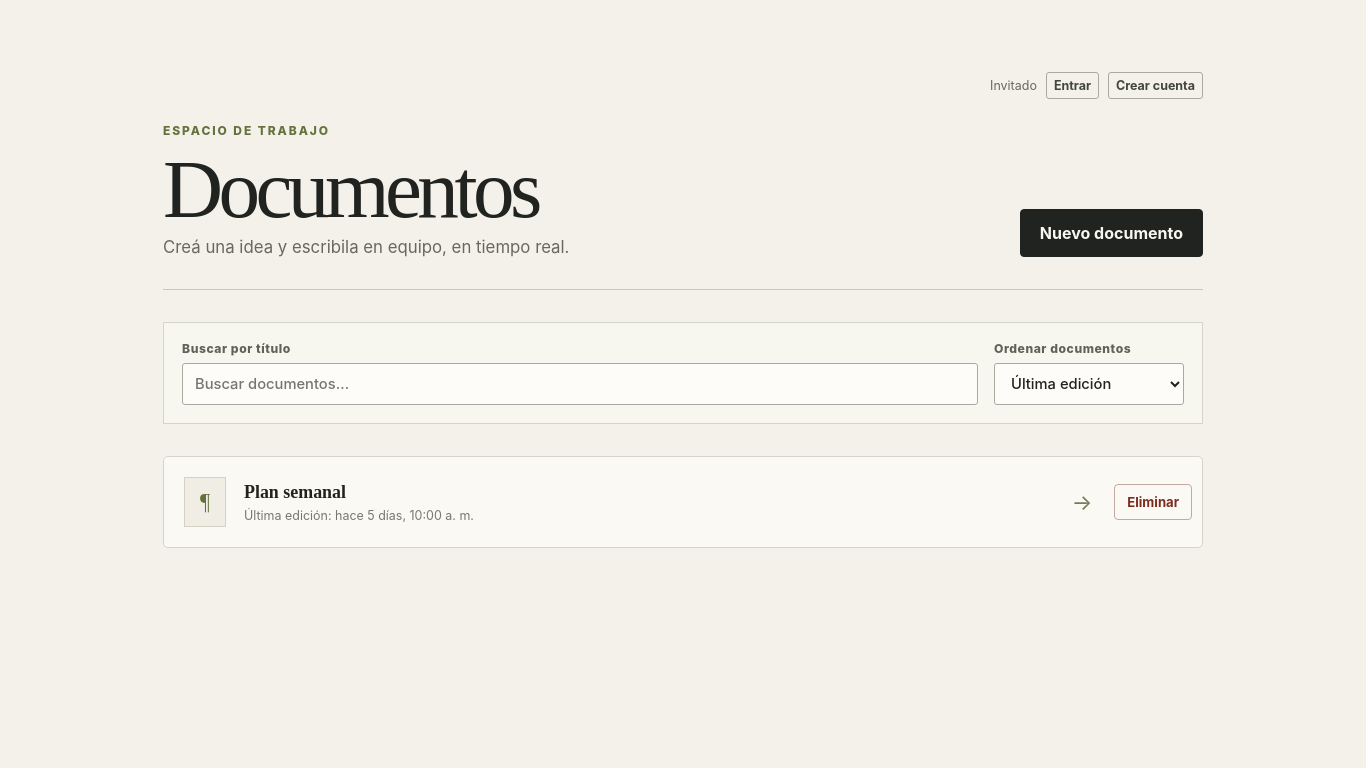
DocumentList › keeps the document and reports a deletion error
Click the button with aria-label "eliminar plan semanal": (1153, 502) [1114, 484, 1192, 520]
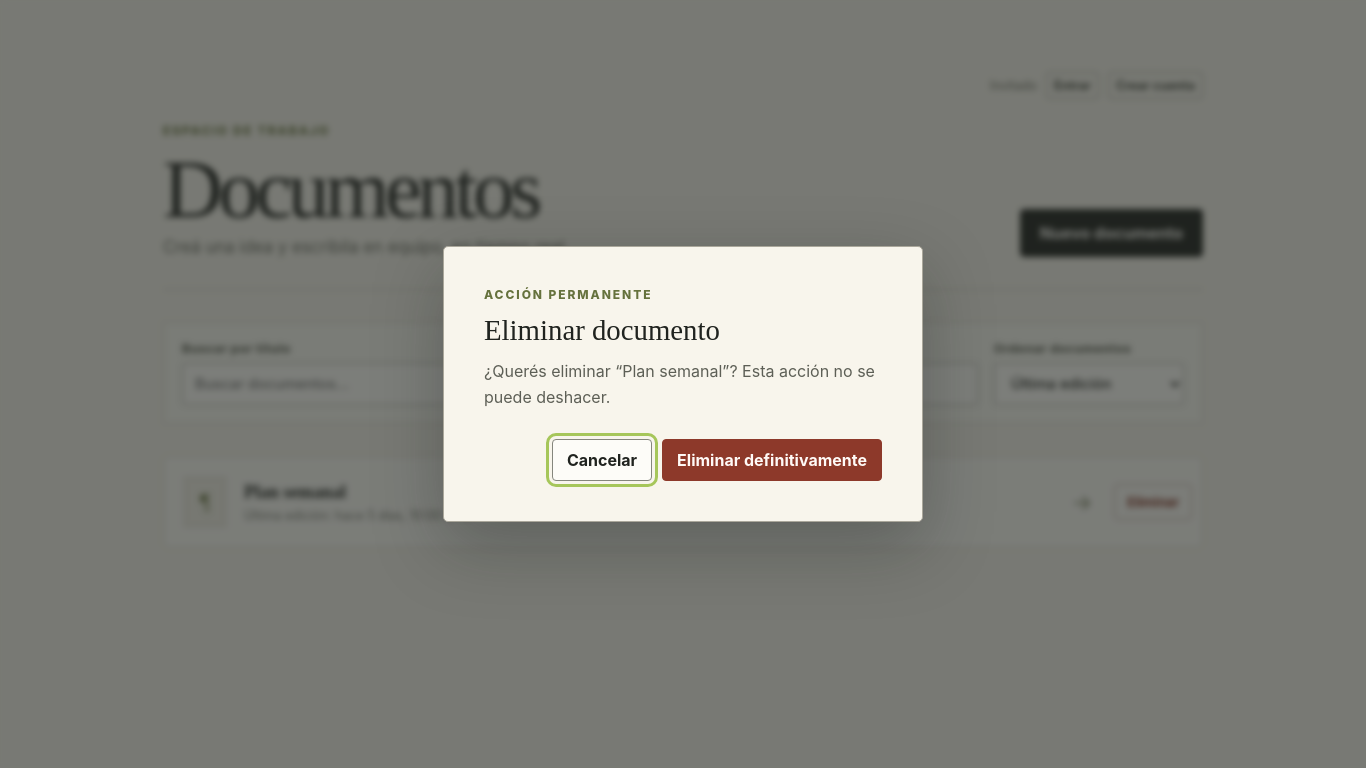
Click the button "Eliminar definitivamente": (772, 460) [662, 439, 882, 481]
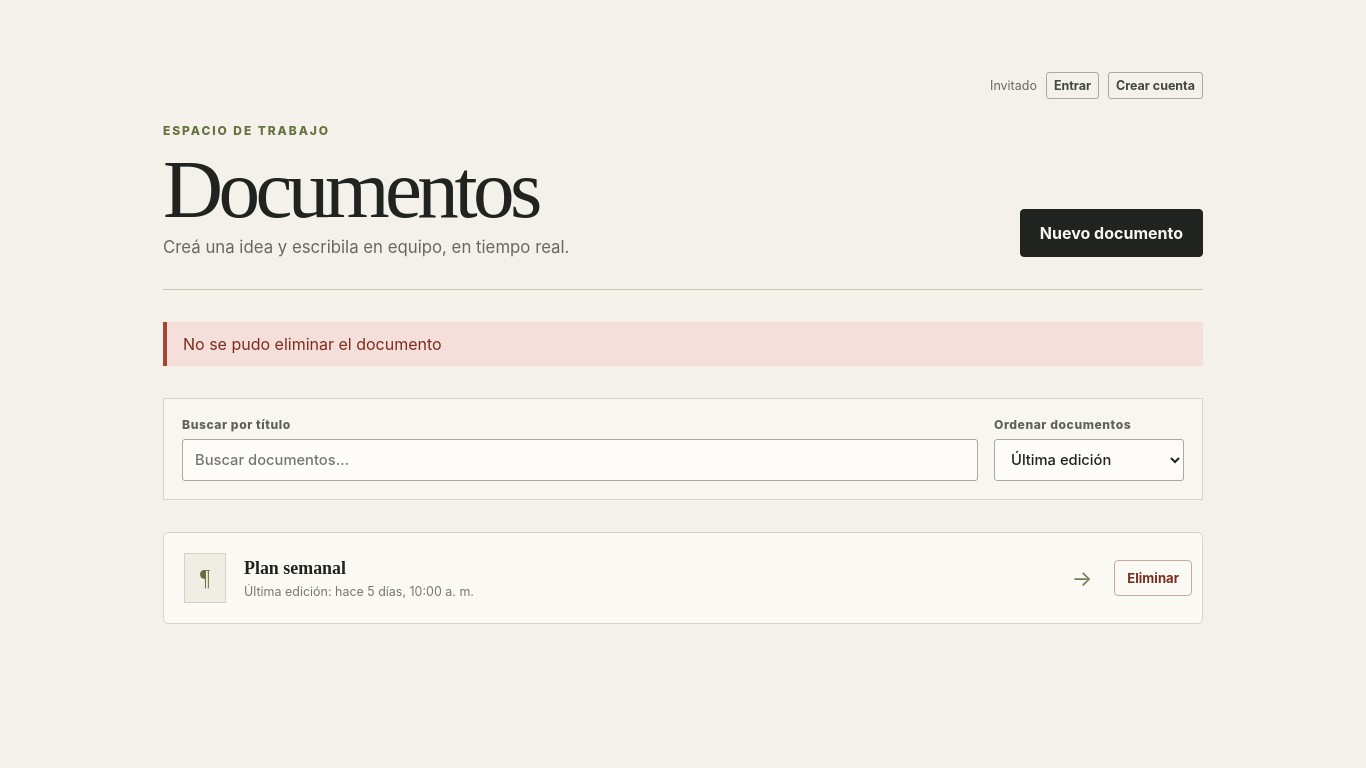
Expected: the text "Plan semanal" is shown, [244, 558, 346, 578]
Result: the message reads "No se pudo eliminar el documento" at [183, 334, 442, 354]
